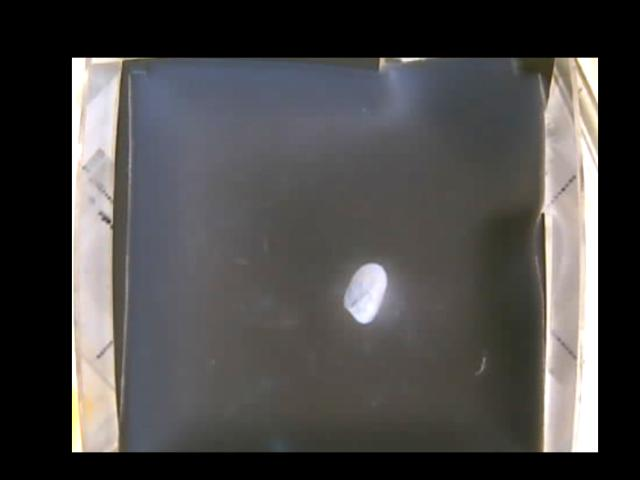Pebble: (343, 262, 387, 324)
